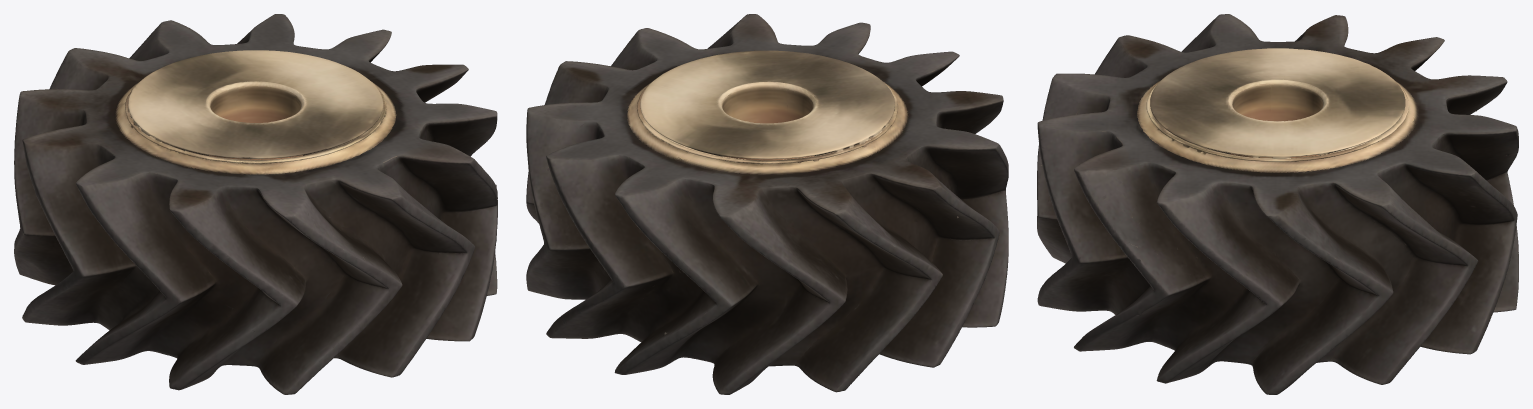
The model's file is 08_gear_symtrellis.glb.
3 renders of one model, left to right at view 1: azimuth 30°, elevation 25°; view 2: azimuth 150°, elevation 25°; view 3: azimuth 270°, elevation 25°, orthographic.
Parts seen in each view (by area): view 1: world; view 2: world; view 3: world.
Part boxes in pixels (<box>): world: <box>14,14,497,394</box>; world: <box>526,14,1008,394</box>; world: <box>1037,14,1518,394</box>.
Bounding box in the file's own units: 0.9875 × 0.4663 × 0.9855.
Materials: 1 (1 with a texture image).
